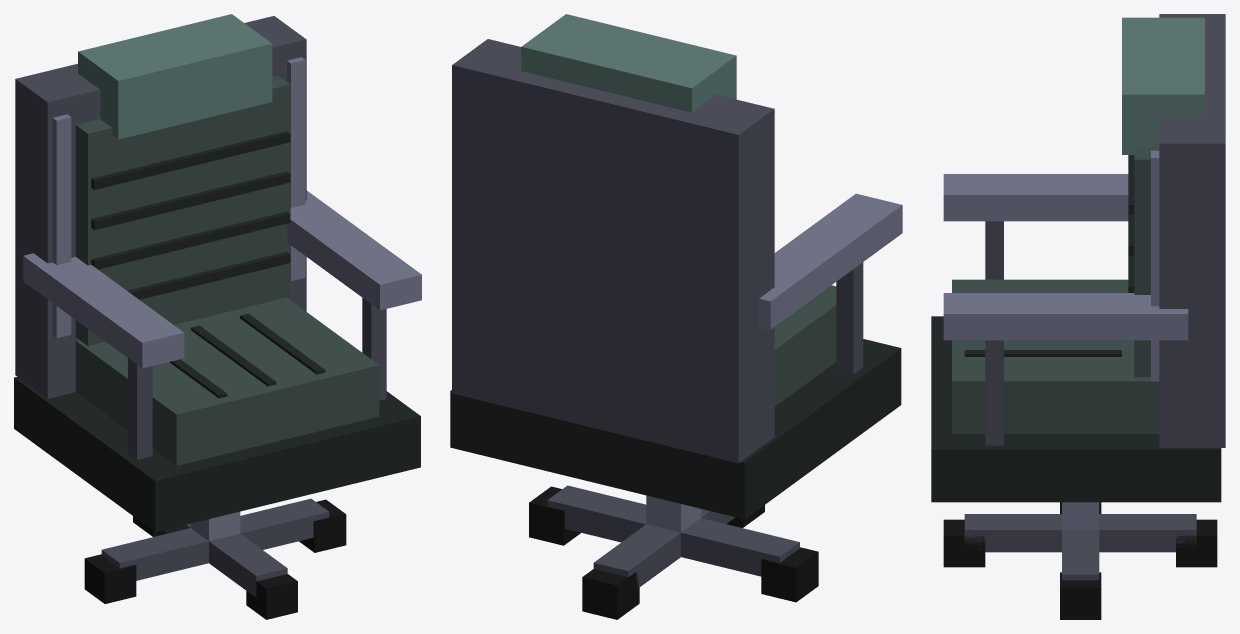
The model's file is CMU3DComfyChairTeal.glb.
The picture shows the model from 3 angles, left to right: view 1: azimuth 30°, elevation 25°; view 2: azimuth 150°, elevation 25°; view 3: azimuth 270°, elevation 25°; orthographic projection. The views are drawn at different scales.
Parts seen in each view (by area): view 1: back cushion, seat cushion, seat base, back shell, headrest, upholstery rib (×4), left arm pad, right arm pad, back edge piping (×2), caster cross X, caster wheel (×3), arm front stanchion (×2) (+3 smaller); view 2: back shell, seat base, headrest, left arm pad, caster cross X, caster wheel (×3), seat cushion, caster cross Y, arm front stanchion, chrome swivel stem; view 3: back shell, seat base, seat cushion, right arm pad, headrest, left arm pad, caster cross Y, caster wheel (×3), back cushion, arm front stanchion (×2), caster cross X, back edge piping (+3 smaller).
Boxes of the visible parts, x1,y1,x2,y2 form: back cushion: [75, 75, 290, 345]; seat cushion: [75, 297, 379, 465]; seat base: [14, 377, 420, 531]; back shell: [15, 16, 306, 398]; headrest: [78, 14, 272, 139]; upholstery rib (×4): [91, 131, 290, 299]; left arm pad: [23, 253, 184, 368]; right arm pad: [287, 190, 421, 310]; back edge piping (×2): [52, 57, 305, 338]; caster cross X: [101, 498, 329, 580]; caster wheel (×3): [84, 499, 346, 619]; arm front stanchion (×2): [128, 298, 386, 459]; back shell: [452, 39, 774, 463]; seat base: [450, 339, 901, 519]; headrest: [521, 14, 736, 112]; left arm pad: [759, 193, 902, 329]; caster cross X: [547, 485, 799, 576]; caster wheel (×3): [529, 486, 818, 619]; seat cushion: [774, 285, 836, 406]; caster cross Y: [593, 509, 735, 588]; arm front stanchion: [836, 262, 863, 374]; chrome swivel stem: [646, 495, 701, 532]; back shell: [1159, 14, 1225, 447]; seat base: [931, 316, 1221, 502]; seat cushion: [952, 279, 1159, 433]; right arm pad: [943, 293, 1188, 340]; headrest: [1122, 17, 1204, 154]; left arm pad: [943, 174, 1128, 221]; caster cross Y: [964, 514, 1196, 552]; caster wheel (×3): [943, 519, 1217, 619]; back cushion: [1134, 147, 1159, 377]; arm front stanchion (×2): [985, 221, 1003, 445]; caster cross X: [1062, 530, 1099, 580]; back edge piping: [1151, 150, 1159, 381].
Bounding box in the file's own units: 0.8 × 1.34 × 0.71.
